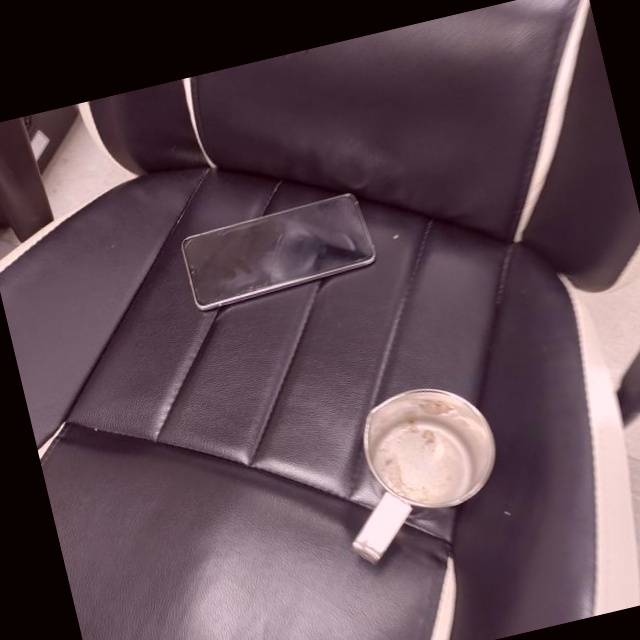cup: (316, 372, 516, 570)
phone: (177, 190, 379, 311)
